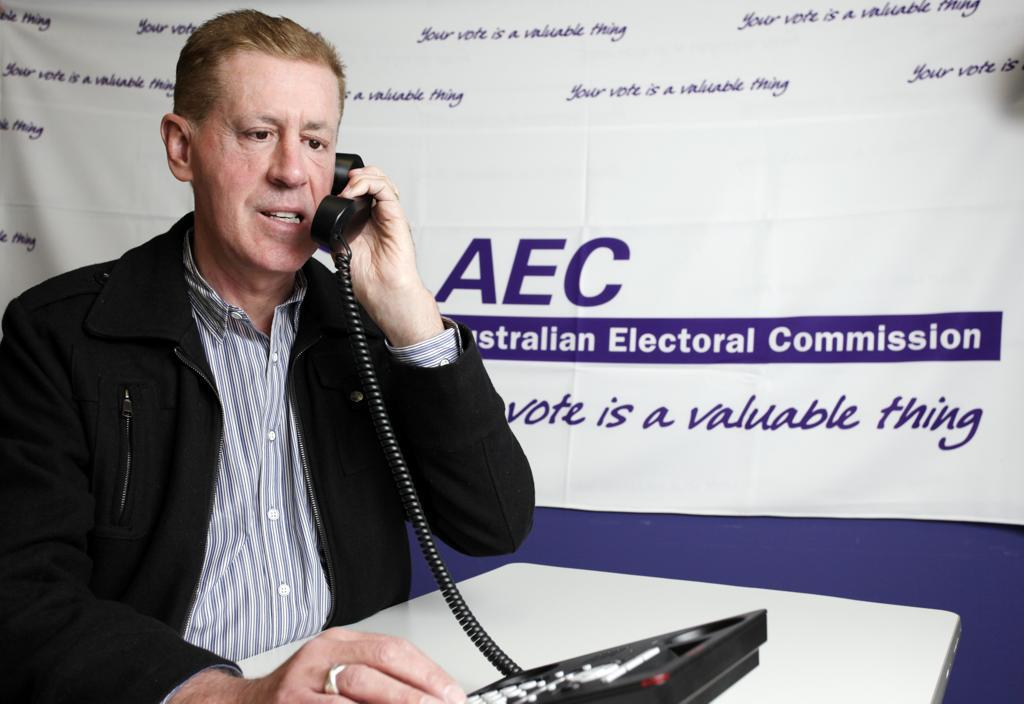face: (193, 51, 345, 273)
